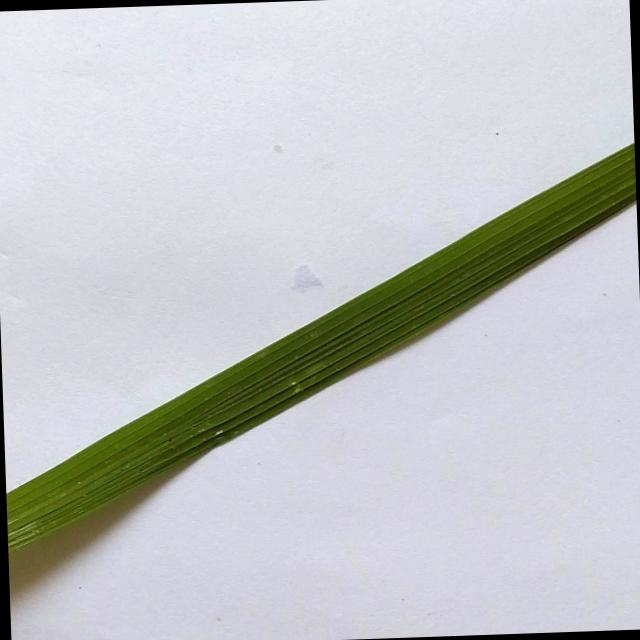Rice_Healthy: (6, 143, 636, 551)
